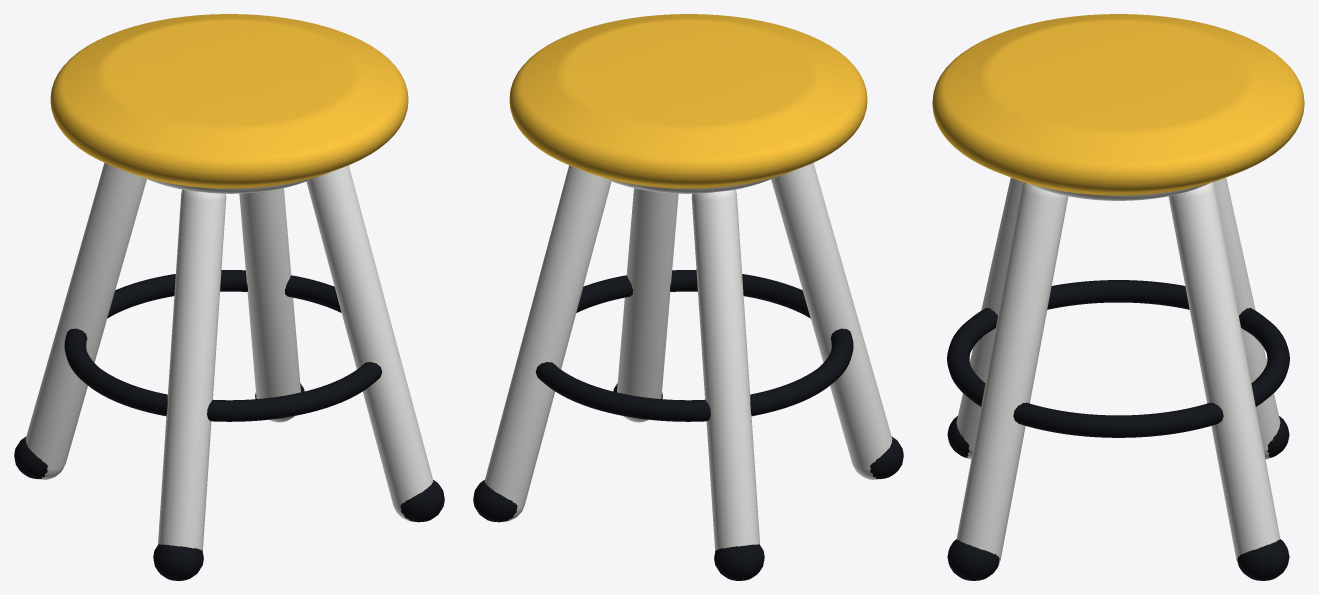
Rendered from stool.glb.
3 renders of one model, left to right at view 1: azimuth 30°, elevation 25°; view 2: azimuth 150°, elevation 25°; view 3: azimuth 270°, elevation 25°, orthographic. The views are drawn at different scales.
Parts seen in each view (by area): view 1: stool, stool_seat, stool_footrest, stool_seat_base; view 2: stool, stool_seat, stool_footrest, stool_seat_base; view 3: stool_seat, stool, stool_footrest, stool_seat_base.
Boxes of the visible parts, x1,y1,x2,y2 form: stool: [14, 163, 444, 580]; stool_seat: [50, 14, 408, 188]; stool_footrest: [64, 270, 382, 421]; stool_seat_base: [141, 176, 316, 193]; stool: [473, 163, 903, 580]; stool_seat: [509, 14, 867, 188]; stool_footrest: [535, 270, 853, 421]; stool_seat_base: [601, 176, 776, 193]; stool_seat: [932, 14, 1304, 195]; stool: [947, 177, 1289, 580]; stool_footrest: [947, 280, 1289, 437]; stool_seat_base: [1027, 183, 1209, 200].
Bounding box in the file's own units: 0.3621 × 0.4787 × 0.3621.
